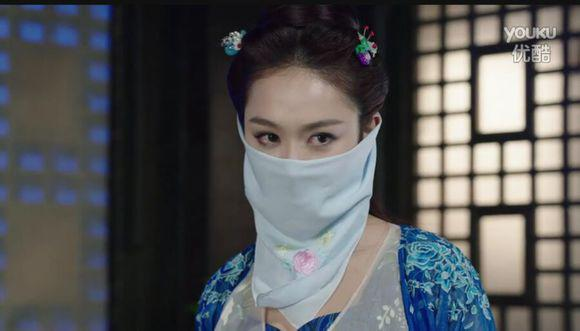OK: (248, 115, 355, 222)
